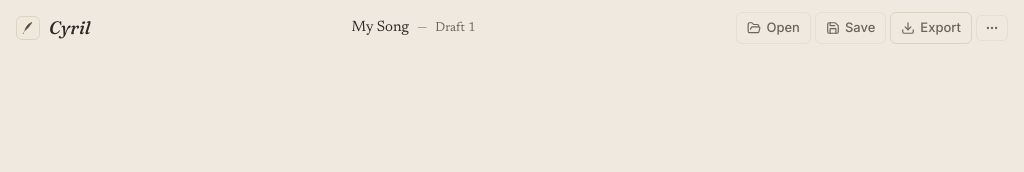
Test case: T-14.05: Song title and draft name in the top bar are click-to-edit; Enter/blur commits, Escape cancels › T-14.05: clicking the project title shows an input pre-filled with the current title
The image size is (1024, 172).
Click the text with test id "topbar-project-title" at (380, 28), box [352, 16, 409, 39]
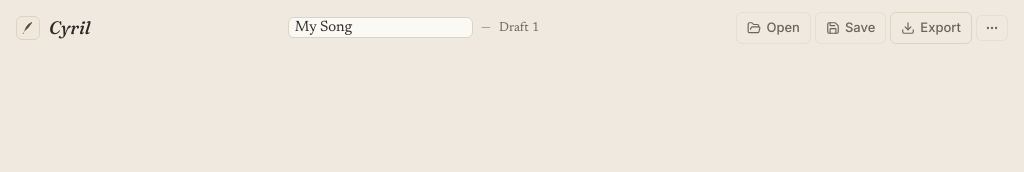
Check: the field with test id "topbar-title-input" holds "My Song", box [288, 17, 473, 38]
